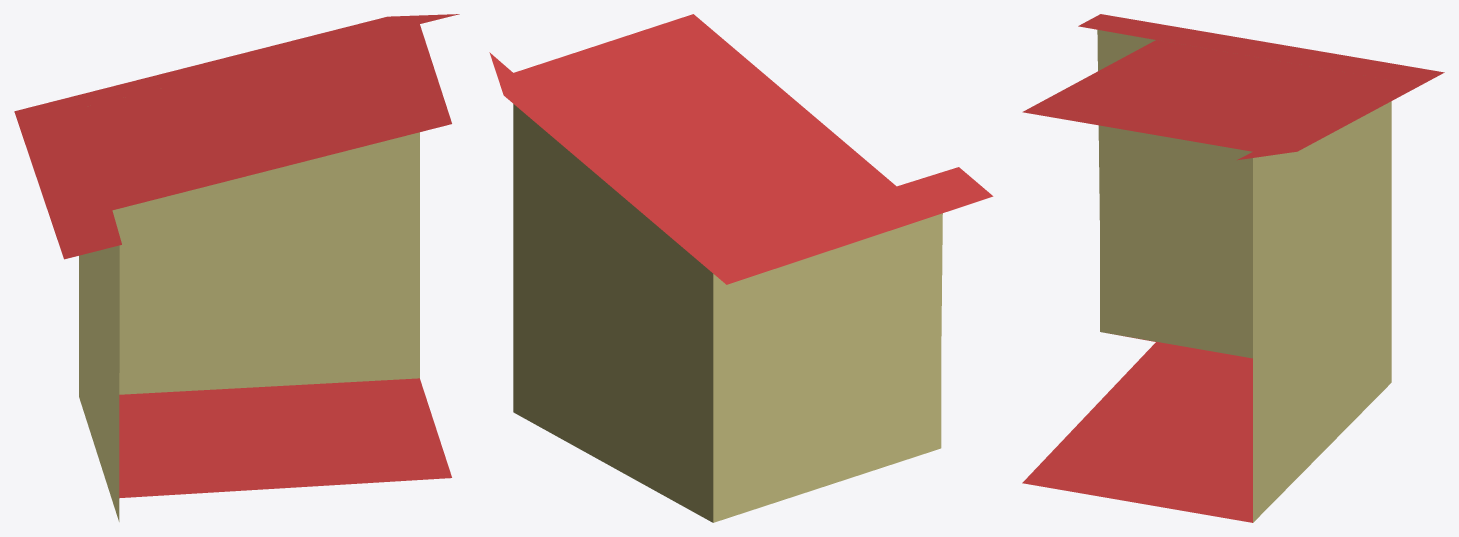
The picture shows the model from 3 angles, left to right: view 1: azimuth 30°, elevation 25°; view 2: azimuth 150°, elevation 25°; view 3: azimuth 270°, elevation 25°; orthographic projection. The views are drawn at different scales.
Bounding box in the file's own units: 10.04 × 7.61 × 7.53.
